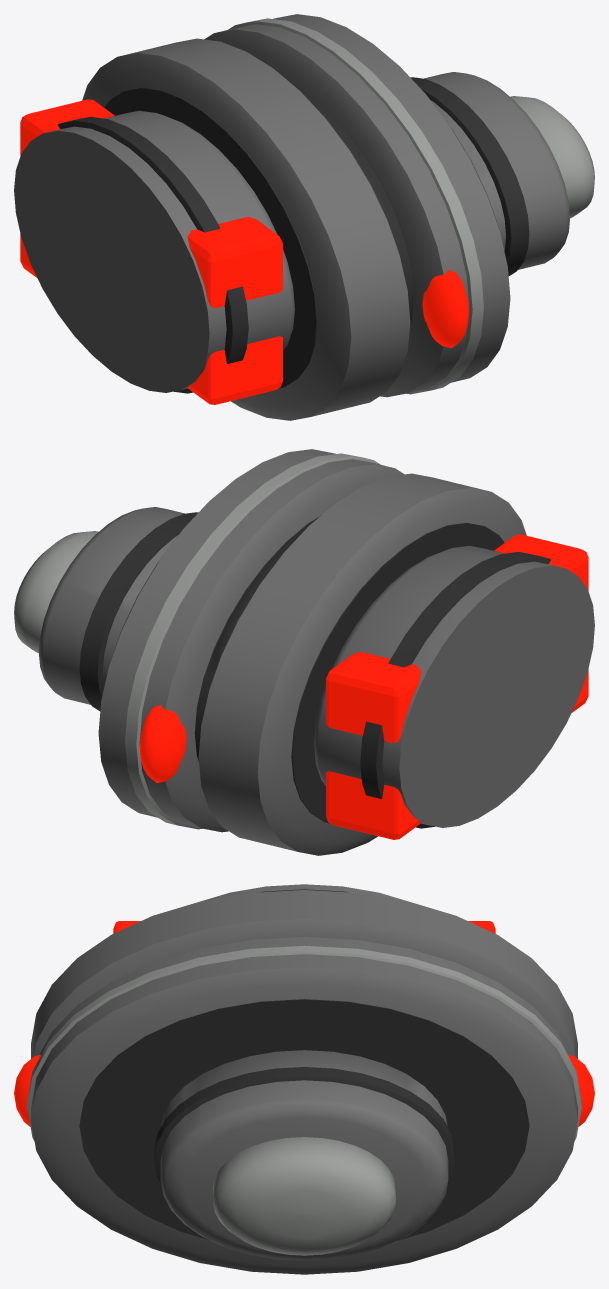
File: station_end_right.glb
3 views of the same model, one above another, from view 1: azimuth 30°, elevation 25°; view 2: azimuth 150°, elevation 25°; view 3: azimuth 270°, elevation 25° (orthographic).
Visible parts, largest first — view 1: collar, flange1, flange0, clamp-1, tube, flange_face1, flange_band, collar_ring, tube_ring, knob, lamp-1, clamp1 (+1 smaller); view 2: collar, flange1, flange0, clamp1, tube, flange_face1, flange_band, collar_ring, tube_ring, knob, lamp1, clamp-1 (+1 smaller); view 3: flange0, flange_face0, tube, flange1, knob, flange_band, tube_ring, collar, lamp1, lamp-1.
Boxes of the visible parts, x1,y1,x2,y2 form: collar: (14,110,294,392); flange1: (82,38,410,420); flange0: (204,14,510,397); clamp-1: (187,216,282,404); tube: (424,72,569,269); flange_face1: (104,88,317,388); flange_band: (228,18,483,394); collar_ring: (58,117,248,393); tube_ring: (410,77,529,276); knob: (510,96,594,217); lamp-1: (422,270,469,348); clamp1: (20,99,114,277); collar: (314,545,594,827); flange1: (198,473,526,855); flange0: (98,449,404,832); clamp1: (326,651,421,839); tube: (39,507,184,704); flange_face1: (291,523,504,823); flange_band: (125,453,380,829); collar_ring: (360,552,550,828); tube_ring: (79,512,198,711); knob: (14,531,98,652); lamp1: (139,705,186,783); clamp-1: (494,534,588,712); flange0: (31,937,577,1274); flange_face0: (79,999,529,1240); tube: (160,1050,448,1260); flange1: (31,890,577,1058); knob: (213,1137,395,1255); flange_band: (27,945,581,1140); tube_ring: (154,1067,454,1184); collar: (201,884,407,901); lamp1: (568,1054,594,1126); lamp-1: (14,1054,40,1126).
Size of the model in its own units: 20 by 13.14 by 22.2.
